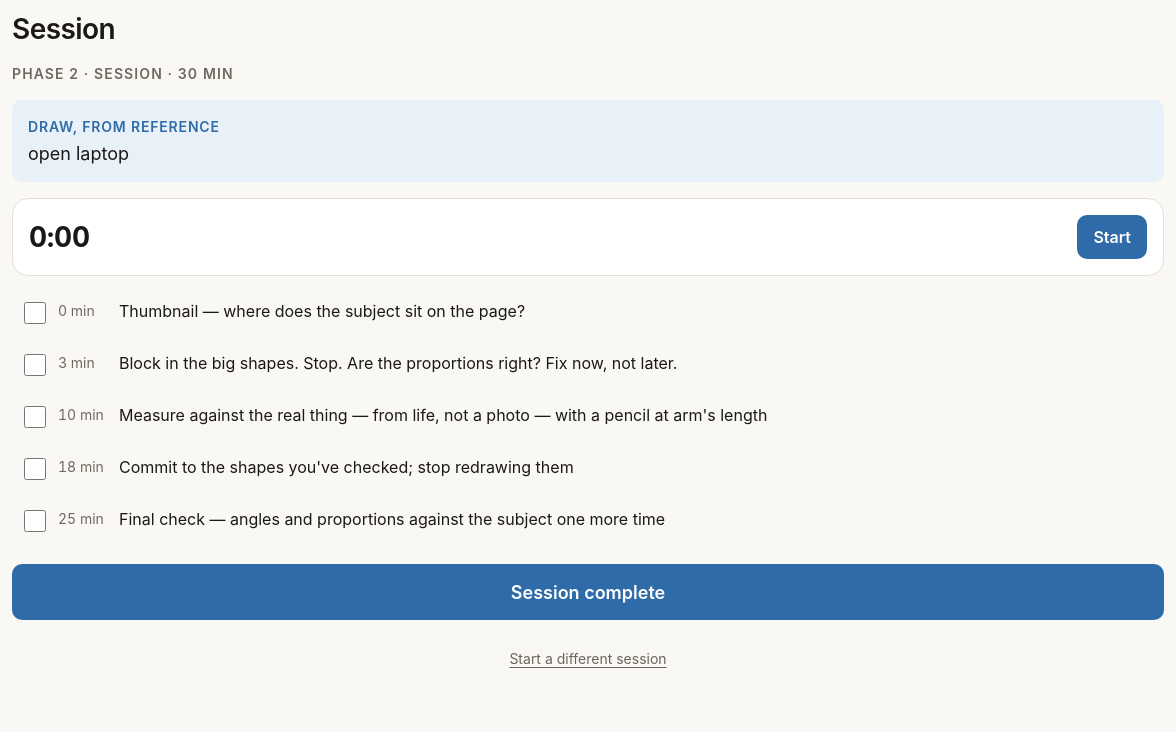
Test: completing a session › a phase with error tags shows the multi-select list after completion
Click the button "Session complete".
click(588, 592)  # box [12,564,1164,620]
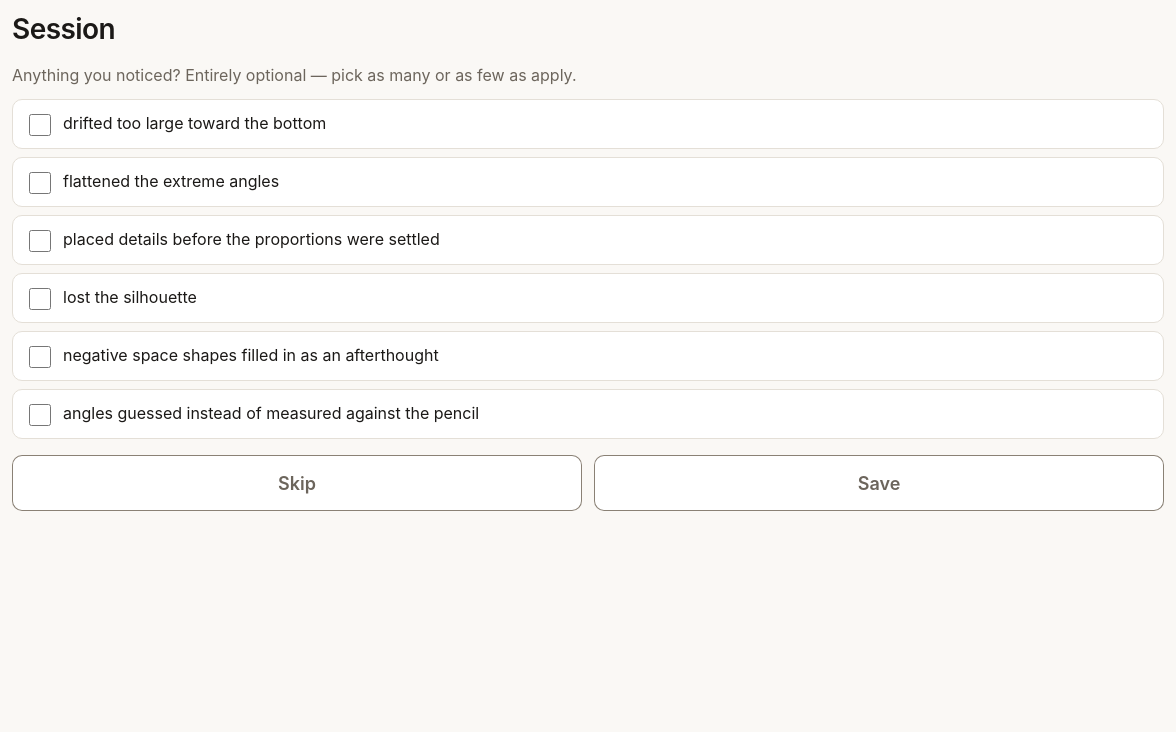
Expected: the text "Anything you noticed" is shown, [12,65,576,85]
Expected: the text "drifted too large toward the bottom" is shown, [63,112,326,134]
Expected: the text "flattened the extreme angles" is shown, [63,170,279,192]
